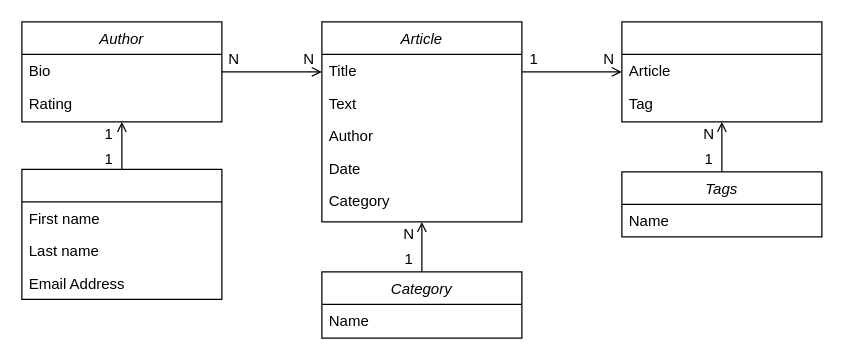
The diagram is 844 pixels wide and 363 high, and some of its shapes have lost their labels. The box of each missing label's shape, as (x1, y1, x2, y2) in pixels:
Abstract user: (21, 168, 222, 299)
Article Tags: (621, 21, 822, 122)
